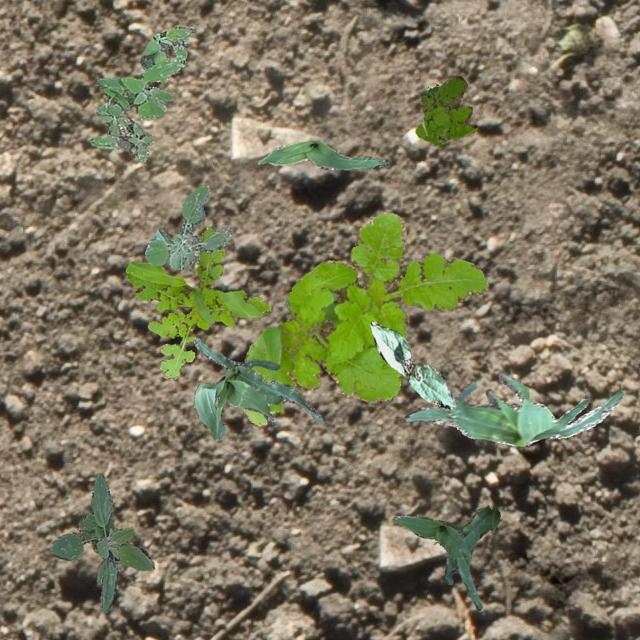crop: (403, 372, 622, 446), (192, 336, 324, 438), (392, 504, 501, 608), (370, 321, 456, 408), (256, 140, 388, 168)
weed: (242, 212, 488, 424), (124, 226, 270, 378), (48, 472, 154, 612), (90, 26, 194, 162), (144, 182, 230, 268), (414, 74, 476, 144)
